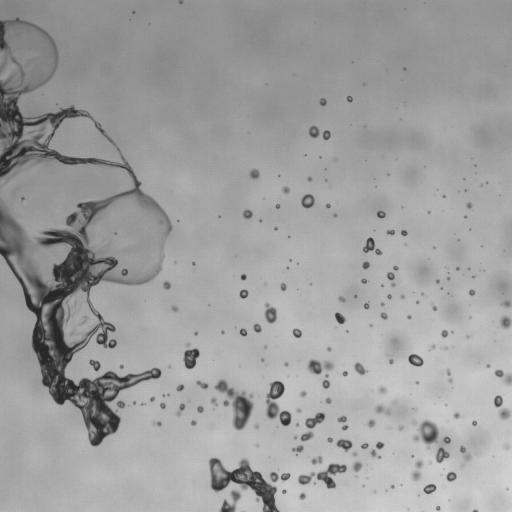droplet: (214, 379, 254, 430), (410, 419, 439, 449), (182, 341, 199, 369), (362, 237, 382, 255), (264, 302, 277, 324), (494, 369, 511, 385), (435, 446, 449, 464), (336, 438, 353, 452), (373, 403, 391, 416), (353, 361, 368, 375), (301, 194, 314, 209), (408, 354, 423, 367), (499, 315, 511, 329), (423, 483, 437, 494), (334, 312, 346, 324), (308, 125, 319, 138), (89, 359, 100, 371), (291, 444, 303, 455), (351, 461, 363, 472), (4, 62, 15, 73), (16, 99, 27, 110), (0, 189, 11, 200), (89, 191, 100, 202), (276, 192, 287, 203), (313, 198, 324, 209), (9, 209, 20, 220), (380, 217, 391, 228), (56, 220, 67, 231), (165, 233, 176, 244), (153, 273, 164, 284), (419, 300, 430, 311), (369, 303, 380, 314), (27, 351, 38, 362), (70, 351, 81, 362), (315, 352, 326, 363), (31, 363, 42, 374), (63, 367, 74, 378), (86, 369, 97, 380), (327, 370, 338, 381), (184, 380, 195, 391), (496, 384, 507, 395), (206, 385, 217, 396), (117, 388, 128, 399), (175, 391, 186, 402), (378, 394, 389, 405), (275, 396, 286, 407), (255, 401, 266, 412), (184, 405, 195, 416), (224, 406, 235, 417), (249, 406, 260, 417), (153, 408, 164, 419), (388, 414, 399, 425), (459, 415, 470, 426), (78, 426, 89, 437), (432, 437, 443, 448), (358, 449, 369, 460), (342, 454, 353, 465), (441, 459, 452, 470), (225, 460, 236, 471), (434, 475, 445, 486), (286, 477, 297, 488), (243, 486, 254, 497), (219, 487, 230, 498), (272, 492, 283, 503), (233, 500, 244, 511), (310, 455, 322, 465), (249, 168, 259, 179), (364, 418, 375, 428), (196, 380, 208, 389), (242, 209, 252, 219), (291, 328, 301, 338), (446, 471, 456, 481), (502, 398, 511, 409), (499, 300, 511, 308), (239, 289, 248, 298), (378, 385, 387, 394), (102, 165, 111, 174), (14, 215, 23, 224), (361, 268, 370, 277), (238, 280, 247, 289), (383, 284, 392, 293), (405, 294, 414, 303), (27, 312, 36, 321), (258, 317, 267, 326), (347, 367, 356, 376), (207, 378, 216, 387), (233, 385, 242, 394), (218, 391, 227, 400), (296, 397, 305, 406), (107, 400, 116, 409), (202, 401, 211, 410), (114, 407, 123, 416), (192, 411, 201, 420), (373, 412, 382, 421), (246, 415, 255, 424), (401, 417, 410, 426), (225, 421, 234, 430), (410, 425, 419, 434), (340, 430, 349, 439), (416, 439, 425, 448), (351, 441, 360, 450), (429, 441, 438, 450), (318, 462, 327, 471), (261, 472, 270, 481), (330, 472, 339, 481), (288, 475, 297, 484), (418, 477, 427, 486), (274, 479, 283, 488), (227, 480, 236, 489), (300, 483, 309, 492), (322, 130, 330, 140), (163, 280, 171, 290), (253, 323, 261, 333), (453, 411, 463, 419), (376, 210, 385, 218), (505, 307, 511, 318), (282, 186, 290, 194), (239, 328, 247, 336), (440, 329, 448, 337), (298, 492, 306, 500), (280, 282, 287, 291), (430, 302, 437, 311), (502, 443, 511, 450), (319, 98, 326, 106), (362, 261, 369, 269), (428, 343, 435, 351), (176, 384, 184, 391), (299, 390, 307, 397), (196, 405, 203, 413), (397, 424, 405, 431), (361, 442, 369, 449), (0, 71, 5, 82), (386, 229, 395, 235), (253, 420, 259, 429), (400, 229, 407, 236), (380, 312, 387, 319), (390, 336, 397, 343), (325, 397, 332, 404), (443, 436, 450, 443), (61, 102, 68, 109), (51, 106, 58, 113), (76, 162, 83, 169), (86, 162, 93, 169), (243, 168, 250, 175), (248, 177, 255, 184), (80, 196, 87, 203), (155, 197, 162, 204), (328, 206, 335, 213), (463, 207, 470, 214), (250, 214, 257, 221), (169, 217, 176, 224), (393, 230, 400, 237), (162, 246, 169, 253), (367, 249, 374, 256), (161, 260, 168, 267), (383, 278, 390, 285), (97, 279, 104, 286), (110, 281, 117, 288), (114, 282, 121, 289), (344, 293, 351, 300), (500, 294, 507, 301), (18, 295, 25, 302), (269, 300, 276, 307), (381, 305, 388, 312), (339, 309, 346, 316), (102, 314, 109, 321), (494, 318, 501, 325), (339, 322, 346, 329), (27, 323, 34, 330), (497, 325, 504, 332), (246, 326, 253, 333), (26, 328, 33, 335), (106, 331, 113, 338), (89, 335, 96, 342), (302, 359, 309, 366), (320, 367, 327, 374), (502, 367, 509, 374), (97, 368, 104, 375), (117, 370, 124, 377), (317, 372, 324, 379), (47, 396, 54, 403), (154, 396, 161, 403), (162, 396, 169, 403), (273, 397, 280, 404), (63, 398, 70, 405), (382, 400, 389, 407), (500, 401, 507, 408), (390, 406, 397, 413), (273, 415, 280, 422), (427, 415, 434, 422), (289, 416, 296, 423), (416, 416, 423, 423), (117, 421, 124, 428), (301, 426, 308, 433), (436, 433, 443, 440), (101, 436, 108, 443), (294, 438, 301, 445), (302, 439, 309, 446), (368, 442, 375, 449), (442, 443, 449, 450), (470, 455, 477, 462), (464, 460, 471, 467), (203, 463, 210, 470), (345, 463, 352, 470), (250, 464, 257, 471), (409, 464, 416, 471), (226, 465, 233, 472), (418, 466, 425, 473), (357, 468, 364, 475), (404, 471, 411, 478), (204, 476, 211, 483), (318, 479, 325, 486), (226, 497, 233, 504), (215, 502, 222, 509), (361, 278, 369, 284), (363, 301, 369, 309), (152, 421, 161, 426), (466, 202, 472, 209), (240, 273, 246, 280), (469, 289, 475, 296), (338, 296, 345, 302), (171, 305, 178, 311), (341, 370, 348, 376), (160, 402, 166, 409), (190, 420, 197, 426), (351, 451, 358, 457), (346, 96, 352, 102), (281, 489, 287, 495), (0, 49, 4, 58), (0, 145, 4, 154), (275, 203, 280, 209), (325, 203, 331, 208), (393, 265, 398, 271), (388, 358, 393, 364), (284, 361, 289, 367), (149, 396, 155, 401), (391, 400, 397, 405), (295, 408, 301, 413), (472, 420, 477, 426), (326, 437, 332, 442), (435, 506, 441, 511), (0, 14, 4, 21), (507, 294, 511, 301), (507, 324, 511, 331), (307, 176, 312, 181), (380, 302, 385, 307), (406, 314, 411, 319), (326, 346, 331, 351), (414, 380, 419, 385), (10, 15, 15, 20), (18, 15, 23, 20), (26, 17, 31, 22), (31, 19, 36, 24), (37, 22, 42, 27), (42, 25, 47, 30), (47, 30, 52, 35), (53, 38, 58, 43), (56, 47, 61, 52), (57, 51, 62, 56), (57, 56, 62, 61), (6, 57, 11, 62), (55, 67, 60, 72), (51, 74, 56, 79), (44, 81, 49, 86), (325, 100, 330, 105), (73, 105, 78, 110), (89, 111, 94, 116), (94, 116, 99, 121), (308, 121, 313, 126), (100, 124, 105, 129), (317, 132, 322, 137), (110, 135, 115, 140), (328, 135, 333, 140), (309, 136, 314, 141), (253, 164, 258, 169), (122, 168, 127, 173), (133, 170, 138, 175), (258, 170, 263, 175), (136, 176, 141, 181), (253, 177, 258, 182), (282, 181, 287, 186), (286, 182, 291, 187), (138, 184, 143, 189), (277, 186, 282, 191), (303, 189, 308, 194), (281, 192, 286, 197), (298, 193, 303, 198), (312, 193, 317, 198), (465, 197, 470, 202), (296, 200, 301, 205), (470, 200, 475, 205), (329, 201, 334, 206), (75, 206, 80, 211), (240, 206, 245, 211), (248, 206, 253, 211), (301, 206, 306, 211), (307, 206, 312, 211), (67, 209, 72, 214), (165, 210, 170, 215), (251, 210, 256, 215), (238, 213, 243, 218), (248, 216, 253, 221), (387, 225, 392, 230), (44, 226, 49, 231), (169, 229, 174, 234), (363, 234, 368, 239), (361, 241, 366, 246), (373, 243, 378, 248), (291, 258, 296, 263), (358, 260, 363, 265), (286, 261, 291, 266), (4, 264, 9, 269), (366, 266, 371, 271), (388, 267, 393, 272), (392, 269, 397, 274), (8, 270, 13, 275), (235, 274, 240, 279), (245, 274, 250, 279), (392, 277, 397, 282), (167, 278, 172, 283), (438, 281, 443, 286), (142, 282, 147, 287), (122, 283, 127, 288), (158, 283, 163, 288), (169, 284, 174, 289), (469, 284, 474, 289), (17, 285, 22, 290), (89, 285, 94, 290), (285, 285, 290, 290), (18, 288, 23, 293), (163, 288, 168, 293), (441, 288, 446, 293), (400, 289, 405, 294), (464, 291, 469, 296), (340, 292, 345, 297), (245, 295, 250, 300), (417, 295, 422, 300), (383, 297, 388, 302), (175, 302, 180, 307), (427, 305, 432, 310), (261, 306, 266, 311), (379, 307, 384, 312), (169, 309, 174, 314), (275, 311, 280, 316), (386, 312, 391, 317), (331, 316, 336, 321), (112, 321, 117, 326), (271, 321, 276, 326), (300, 329, 305, 334), (436, 330, 441, 335), (446, 332, 451, 337), (293, 336, 298, 341), (115, 338, 120, 343), (426, 342, 431, 347), (98, 343, 103, 348), (113, 345, 118, 350), (187, 345, 192, 350), (105, 346, 110, 351), (181, 346, 186, 351), (430, 348, 435, 353), (411, 349, 416, 354), (198, 350, 203, 355), (416, 351, 421, 356), (179, 352, 184, 357), (92, 356, 97, 361), (194, 356, 199, 361), (403, 356, 408, 361), (287, 359, 292, 364), (404, 359, 409, 364), (179, 360, 184, 365), (350, 360, 355, 365), (287, 363, 292, 368), (88, 364, 93, 369), (157, 364, 162, 369), (362, 364, 367, 369), (146, 365, 151, 370), (495, 365, 500, 370), (184, 367, 189, 372), (131, 369, 136, 374), (326, 369, 331, 374), (159, 372, 164, 377), (312, 372, 317, 377), (361, 373, 366, 378), (449, 373, 454, 378), (37, 374, 42, 379), (443, 374, 448, 379), (494, 375, 499, 380), (276, 376, 281, 381), (326, 376, 331, 381), (149, 377, 154, 382), (269, 377, 274, 382), (200, 378, 205, 383), (141, 379, 146, 384), (73, 380, 78, 385), (317, 382, 322, 387), (446, 382, 451, 387), (226, 383, 231, 388), (328, 383, 333, 388), (195, 384, 200, 389), (283, 384, 288, 389), (43, 385, 48, 390), (128, 385, 133, 390), (265, 385, 270, 390), (385, 385, 390, 390), (199, 387, 204, 392), (297, 387, 302, 392), (304, 387, 309, 392), (373, 387, 378, 392), (496, 390, 501, 395), (281, 391, 286, 396), (304, 394, 309, 399), (328, 394, 333, 399), (298, 395, 303, 400), (501, 395, 506, 400), (113, 396, 118, 401), (160, 397, 165, 402), (330, 399, 335, 404), (135, 400, 140, 405), (489, 400, 494, 405), (164, 401, 169, 406), (195, 401, 200, 406), (209, 403, 214, 408), (174, 404, 179, 409), (278, 406, 283, 411), (75, 407, 80, 412), (286, 407, 291, 412), (319, 408, 324, 413), (180, 409, 185, 414), (458, 410, 463, 415), (336, 412, 341, 417), (310, 413, 315, 418), (448, 413, 453, 418), (323, 415, 328, 420), (154, 416, 159, 421), (456, 417, 461, 422), (363, 418, 368, 423), (399, 420, 404, 425), (80, 421, 85, 426), (195, 421, 200, 426), (339, 421, 344, 426), (314, 422, 319, 427), (373, 423, 378, 428), (153, 424, 158, 429), (189, 424, 194, 429), (392, 424, 397, 429), (364, 425, 369, 430), (369, 426, 374, 431), (399, 429, 404, 434), (296, 432, 301, 437), (378, 437, 383, 442), (332, 438, 337, 443), (85, 440, 90, 445), (338, 446, 343, 451), (347, 447, 352, 452), (465, 447, 470, 452), (375, 448, 380, 453), (457, 451, 462, 456), (211, 453, 216, 458), (312, 453, 317, 458), (372, 456, 377, 461), (306, 457, 311, 462), (411, 457, 416, 462), (431, 457, 436, 462), (442, 457, 447, 462), (422, 459, 427, 464), (337, 460, 342, 465), (451, 467, 456, 472), (282, 468, 287, 473), (304, 470, 309, 475), (442, 470, 447, 475), (276, 471, 281, 476), (441, 474, 446, 479), (311, 475, 316, 480), (276, 477, 281, 482), (285, 478, 290, 483), (362, 479, 367, 484), (426, 479, 431, 484), (451, 479, 456, 484), (270, 481, 275, 486), (385, 483, 390, 488), (328, 487, 333, 492), (209, 488, 214, 493), (295, 490, 300, 495), (431, 490, 436, 495), (304, 494, 309, 499), (258, 499, 263, 504), (0, 254, 3, 261), (178, 0, 183, 4), (273, 226, 278, 230), (387, 294, 391, 299), (400, 294, 404, 299), (263, 344, 267, 349), (119, 364, 123, 369), (293, 435, 297, 440), (254, 443, 259, 447), (390, 484, 394, 489), (371, 489, 376, 493), (386, 426, 392, 429), (333, 157, 337, 161), (442, 194, 446, 198), (333, 213, 337, 217), (446, 276, 450, 280), (435, 279, 439, 283), (353, 294, 357, 298), (194, 331, 198, 335), (221, 330, 225, 334), (260, 358, 264, 362), (132, 401, 136, 405), (295, 422, 299, 426), (428, 460, 432, 464), (460, 463, 464, 467), (192, 261, 195, 266), (508, 414, 511, 419), (508, 440, 511, 445), (508, 447, 511, 452), (508, 485, 511, 490), (324, 178, 327, 182), (427, 210, 430, 214), (259, 218, 262, 222), (432, 246, 436, 249), (289, 258, 292, 262), (173, 260, 177, 263), (456, 266, 459, 270), (472, 275, 476, 278), (468, 315, 471, 319), (369, 323, 372, 327), (168, 364, 171, 368), (486, 364, 490, 367), (173, 0, 178, 2), (132, 10, 135, 13), (403, 67, 406, 70), (362, 82, 365, 85), (318, 155, 321, 158), (277, 174, 280, 177), (485, 181, 488, 184), (480, 183, 483, 186), (218, 215, 221, 218), (464, 215, 467, 218), (457, 238, 460, 241), (404, 243, 407, 246), (296, 262, 299, 265), (286, 266, 289, 269), (467, 267, 470, 270), (380, 284, 383, 287), (440, 286, 443, 289), (416, 300, 419, 303), (345, 329, 348, 332), (167, 393, 170, 396), (162, 394, 165, 397), (444, 403, 447, 406), (411, 454, 414, 457), (362, 484, 365, 487), (505, 487, 508, 490), (179, 3, 182, 6), (129, 9, 132, 12), (134, 9, 137, 12), (132, 13, 135, 16), (403, 64, 406, 67), (401, 69, 404, 72), (347, 92, 350, 95), (351, 95, 354, 98), (351, 99, 354, 102), (347, 101, 350, 104), (319, 104, 322, 107), (324, 127, 327, 130), (329, 131, 332, 134), (324, 139, 327, 142), (118, 146, 121, 149), (303, 150, 306, 153), (306, 152, 309, 155), (318, 152, 321, 155), (318, 158, 321, 161), (323, 164, 326, 167), (473, 166, 476, 169), (276, 171, 279, 174), (274, 174, 277, 177), (279, 174, 282, 177), (462, 174, 465, 177), (324, 175, 327, 178), (386, 175, 389, 178), (311, 176, 314, 179), (304, 177, 307, 180), (321, 178, 324, 181), (327, 178, 330, 181), (487, 179, 490, 182), (309, 180, 312, 183), (482, 180, 485, 183), (486, 183, 489, 186), (465, 186, 468, 189), (464, 191, 467, 194), (440, 192, 443, 195), (444, 192, 447, 195), (23, 194, 26, 197), (17, 196, 20, 199), (442, 197, 445, 200), (21, 199, 24, 202), (276, 200, 279, 203), (325, 200, 328, 203), (272, 203, 275, 206), (279, 204, 282, 207), (322, 204, 325, 207), (470, 206, 473, 209), (273, 207, 276, 210), (277, 207, 280, 210), (325, 207, 328, 210), (427, 207, 430, 210), (376, 208, 379, 211), (381, 208, 384, 211), (424, 210, 427, 213), (218, 212, 221, 215), (336, 212, 339, 215), (427, 213, 430, 216), (214, 214, 217, 217), (466, 214, 469, 217), (460, 215, 463, 218), (176, 216, 179, 219), (333, 216, 336, 219), (376, 216, 379, 219), (218, 217, 221, 220), (380, 217, 383, 220), (464, 217, 467, 220), (261, 218, 264, 221), (178, 220, 181, 223), (256, 220, 259, 223), (274, 223, 277, 226), (270, 226, 273, 229), (277, 226, 280, 229), (402, 227, 405, 230), (465, 227, 468, 230), (275, 229, 278, 232), (383, 230, 386, 233), (406, 230, 409, 233), (287, 232, 290, 235), (387, 233, 390, 236), (284, 235, 287, 238), (403, 235, 406, 238), (287, 237, 290, 240), (434, 243, 437, 246), (379, 248, 382, 251), (361, 250, 364, 253), (376, 254, 379, 257), (288, 255, 291, 258), (191, 258, 194, 261), (194, 261, 197, 264), (298, 262, 301, 265), (394, 262, 397, 265), (189, 263, 192, 266), (283, 264, 286, 267), (466, 264, 469, 267), (458, 265, 461, 268), (452, 266, 455, 269), (283, 267, 286, 270), (397, 267, 400, 270), (446, 268, 449, 271), (456, 269, 459, 272), (480, 270, 483, 273), (240, 271, 243, 274), (471, 272, 474, 275), (447, 273, 450, 276), (435, 276, 438, 279), (474, 276, 477, 279), (365, 277, 368, 280), (385, 277, 388, 280), (307, 279, 310, 282), (432, 279, 435, 282), (365, 281, 368, 284), (311, 282, 314, 285), (360, 282, 363, 285), (377, 283, 380, 286), (277, 285, 280, 288), (379, 286, 382, 289), (279, 289, 282, 292), (283, 289, 286, 292), (466, 289, 469, 292), (236, 291, 239, 294), (352, 291, 355, 294), (423, 291, 426, 294), (449, 291, 452, 294), (474, 291, 477, 294), (356, 293, 359, 296), (404, 294, 407, 297), (472, 294, 475, 297), (390, 296, 393, 299), (242, 297, 245, 300), (400, 298, 403, 301), (364, 299, 367, 302), (412, 300, 415, 303), (418, 300, 421, 303), (361, 301, 364, 304), (368, 302, 371, 305), (433, 302, 436, 305), (415, 303, 418, 306), (361, 306, 364, 309), (436, 306, 439, 309), (364, 308, 367, 311), (433, 310, 436, 313), (377, 312, 380, 315), (405, 312, 408, 315), (471, 315, 474, 318), (378, 316, 381, 319), (410, 316, 413, 319), (407, 318, 410, 321), (368, 320, 371, 323), (110, 321, 113, 324), (366, 323, 369, 326), (297, 326, 300, 329), (369, 326, 372, 329), (441, 327, 444, 330), (223, 328, 226, 331), (192, 329, 195, 332), (236, 329, 239, 332), (348, 329, 351, 332), (217, 330, 220, 333), (453, 330, 456, 333), (197, 331, 200, 334), (254, 331, 257, 334), (467, 332, 470, 335), (191, 333, 194, 336), (238, 333, 241, 336), (300, 334, 303, 337), (242, 335, 245, 338), (468, 336, 471, 339), (260, 344, 263, 347), (329, 344, 332, 347), (435, 344, 438, 347), (324, 345, 327, 348), (447, 345, 450, 348), (81, 347, 84, 350), (330, 348, 333, 351), (407, 352, 410, 355), (261, 354, 264, 357), (257, 358, 260, 361), (422, 358, 425, 361), (86, 359, 89, 362), (385, 359, 388, 362), (392, 359, 395, 362), (98, 360, 101, 363), (263, 360, 266, 363), (281, 360, 284, 363), (119, 361, 122, 364), (260, 361, 263, 364), (488, 361, 491, 364), (390, 363, 393, 366), (409, 363, 412, 366), (483, 364, 486, 367), (282, 365, 285, 368), (340, 369, 343, 372), (449, 369, 452, 372), (340, 374, 343, 377), (344, 375, 347, 378), (415, 377, 418, 380), (418, 380, 421, 383), (179, 381, 182, 384), (413, 383, 416, 386), (325, 387, 328, 390), (180, 389, 183, 392), (163, 391, 166, 394), (164, 394, 167, 397), (147, 396, 150, 399), (445, 400, 448, 403), (129, 401, 132, 404), (124, 403, 127, 406), (447, 403, 450, 406), (142, 404, 145, 407), (411, 404, 414, 407), (157, 405, 160, 408), (297, 405, 300, 408), (161, 408, 164, 411), (194, 408, 197, 411), (174, 415, 177, 418), (473, 417, 476, 420), (188, 418, 191, 421), (469, 419, 472, 422), (160, 420, 163, 423), (476, 420, 479, 423), (475, 423, 478, 426), (470, 424, 473, 427), (346, 427, 349, 430), (326, 434, 329, 437), (329, 434, 332, 437), (447, 434, 450, 437), (361, 440, 364, 443), (365, 440, 368, 443), (449, 440, 452, 443), (326, 441, 329, 444), (457, 446, 460, 449), (288, 447, 291, 450), (293, 450, 296, 453), (409, 451, 412, 454), (377, 458, 380, 461), (455, 473, 458, 476), (400, 480, 403, 483), (390, 481, 393, 484), (393, 483, 396, 486), (402, 483, 405, 486), (434, 483, 437, 486), (358, 484, 361, 487), (364, 484, 367, 487), (389, 487, 392, 490), (392, 487, 395, 490), (502, 487, 505, 490), (422, 491, 425, 494), (284, 492, 287, 495), (436, 502, 439, 505), (473, 506, 476, 509), (354, 475, 358, 477), (387, 173, 390, 175), (462, 178, 465, 180), (375, 185, 377, 188), (401, 205, 403, 208), (177, 219, 179, 222), (288, 235, 290, 238), (480, 245, 483, 247), (309, 282, 311, 285), (451, 330, 453, 333), (408, 509, 411, 511), (265, 83, 267, 85), (304, 154, 306, 156), (474, 164, 476, 166), (324, 168, 326, 170), (464, 189, 466, 191), (373, 229, 375, 231), (469, 228, 471, 230), (234, 255, 236, 257), (483, 269, 485, 271), (447, 292, 449, 294), (208, 304, 210, 306), (234, 326, 236, 328), (287, 375, 289, 377), (366, 477, 368, 479), (400, 484, 402, 486), (385, 489, 387, 491), (448, 499, 450, 501), (407, 508, 409, 510), (181, 0, 184, 1), (447, 272, 449, 273), (297, 288, 298, 290), (277, 426, 278, 427)
ligament: (265, 380, 291, 426), (300, 412, 325, 441), (493, 395, 511, 420), (410, 459, 423, 481), (459, 445, 472, 461), (175, 402, 185, 417), (386, 271, 395, 287), (210, 396, 218, 410), (446, 368, 452, 383), (21, 193, 26, 201), (440, 346, 447, 350), (420, 292, 426, 296), (466, 335, 472, 339), (140, 402, 146, 405), (412, 408, 417, 410), (240, 510, 246, 511), (420, 510, 423, 511), (440, 474, 442, 475)
